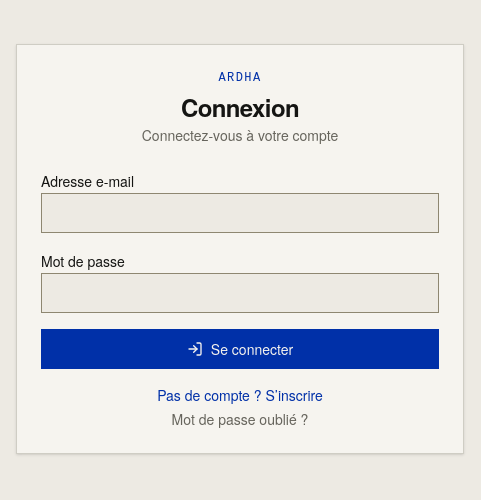
Test: connexion › valide avant d’envoyer, avec les messages du contrat
Click the button "Se connecter".
click(240, 349)  # box [41,329,439,369]
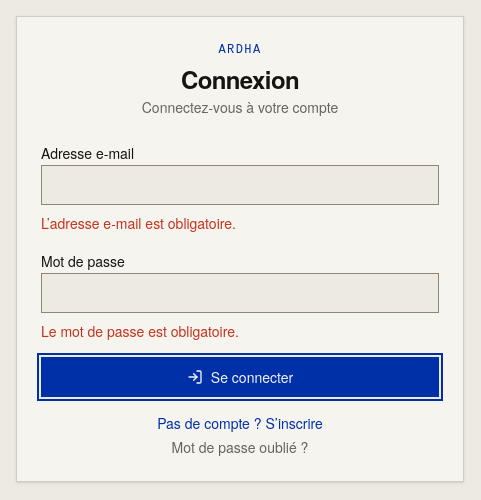
Expected: the text "L’adresse e-mail est obligatoire." is shown, [41,213,236,233]
Expected: the text "Le mot de passe est obligatoire." is shown, [41,321,239,341]
